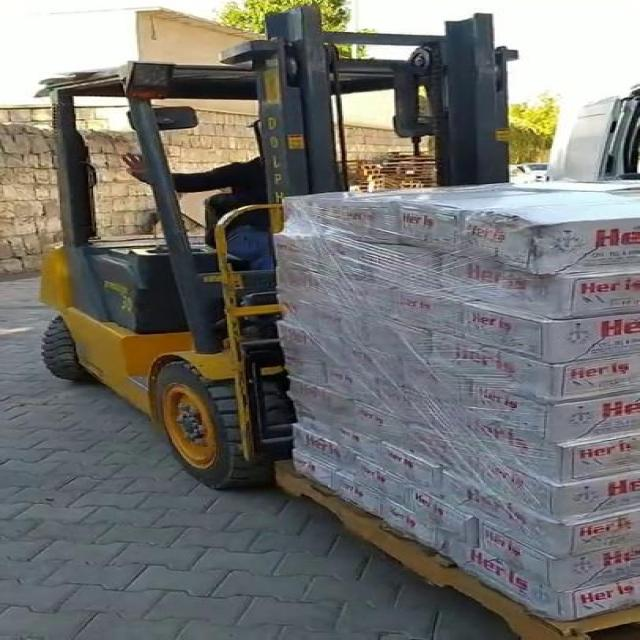forklift: (31, 15, 525, 494)
pallets: (252, 173, 640, 639)
person: (122, 113, 364, 269)
